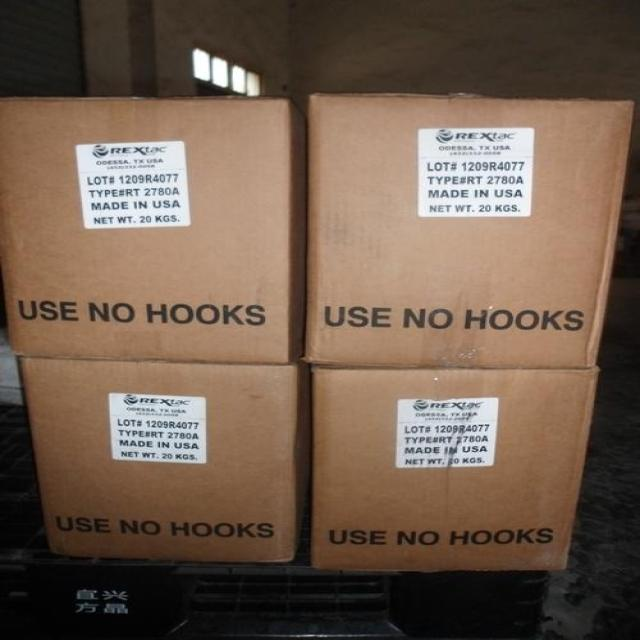box: (306, 91, 635, 371), (1, 98, 306, 364), (20, 358, 311, 563), (311, 366, 600, 571)
